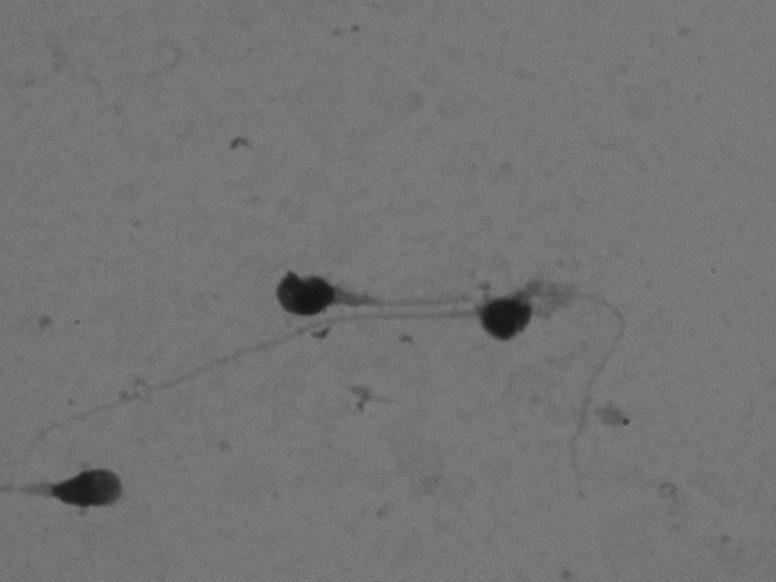Abnormal: (243, 243, 671, 521), (124, 274, 540, 411), (5, 405, 152, 548)
